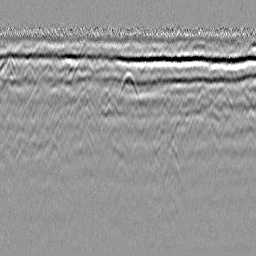cavity: (116, 72, 139, 102)
